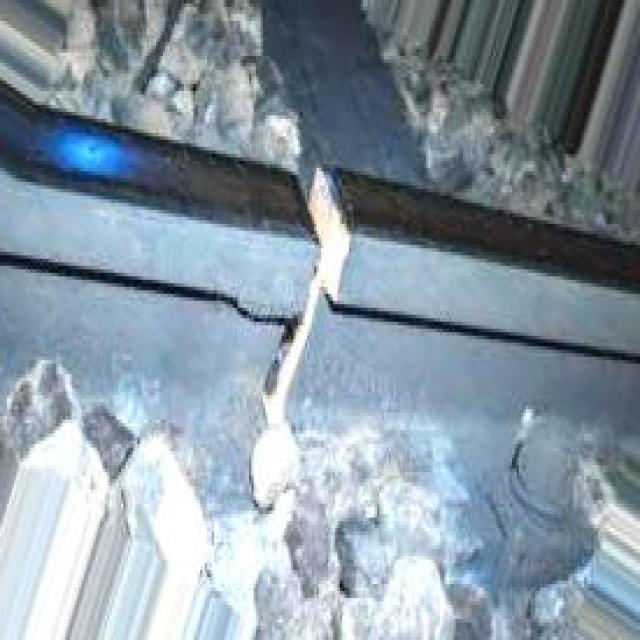crack: (216, 131, 380, 487)
